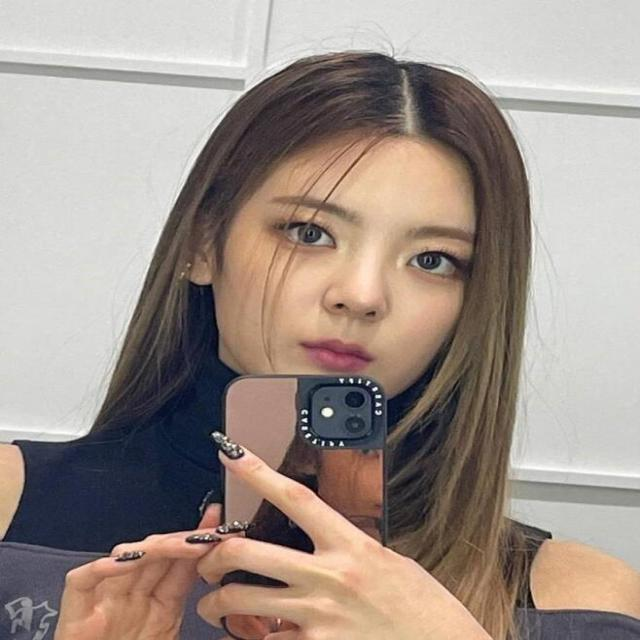phone: (222, 373, 388, 640)
